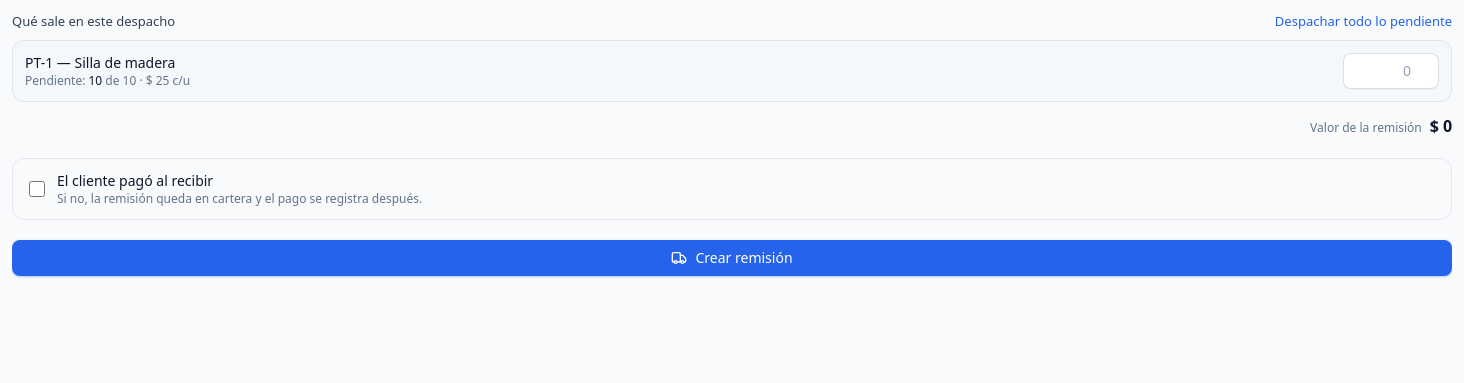
RemissionForm › shows the backend error message when the remission cannot be created
In the number field named "Cantidad a entregar de Silla de madera": point(1391, 70) [1343,52,1439,88], type "4"
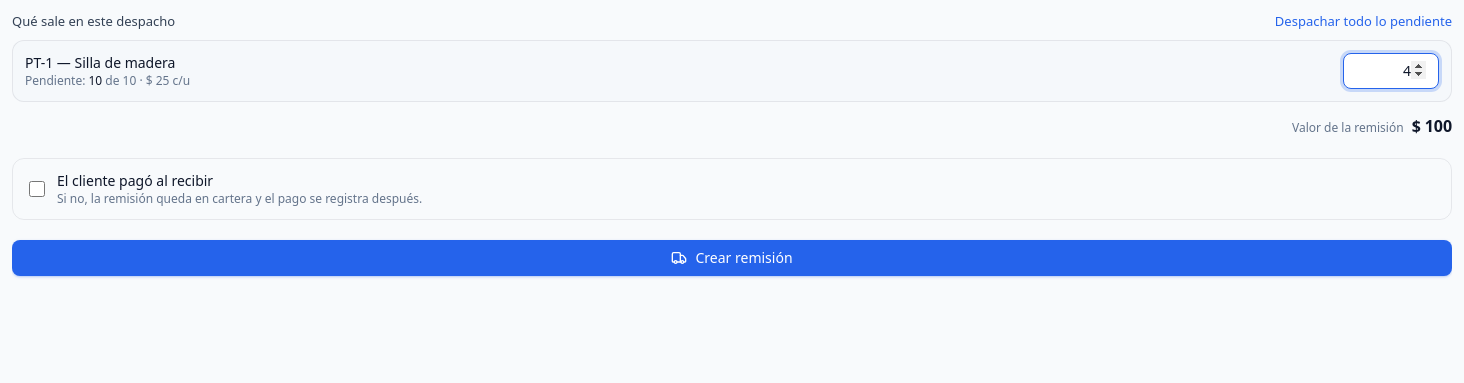
Click the button "Crear remisión": point(732, 258) [12,240,1452,276]
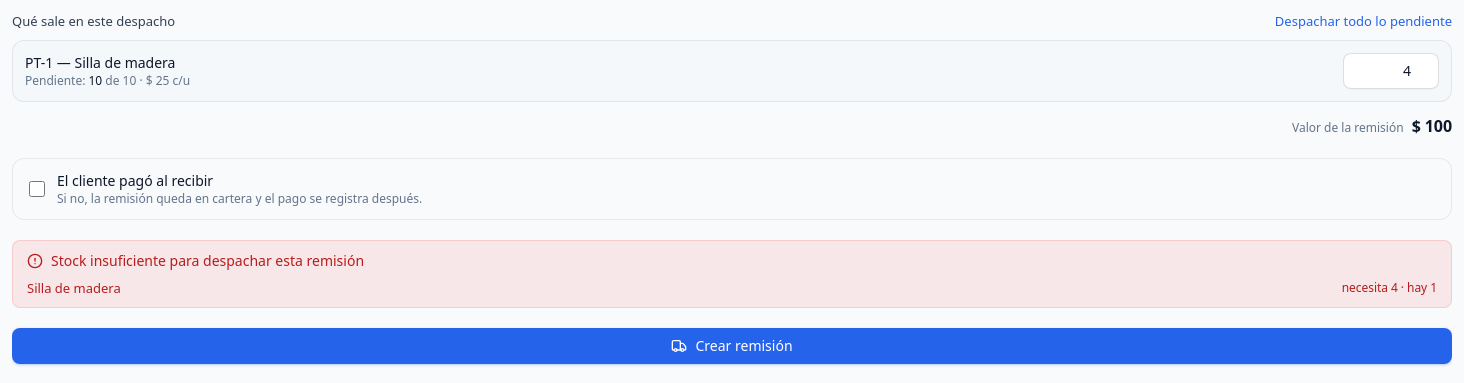
Result: the text "Stock insuficiente para despachar esta remisión" is shown at [51,250,364,270]
Result: the text "necesita 4 · hay 1" is shown at [1342,280,1437,296]
